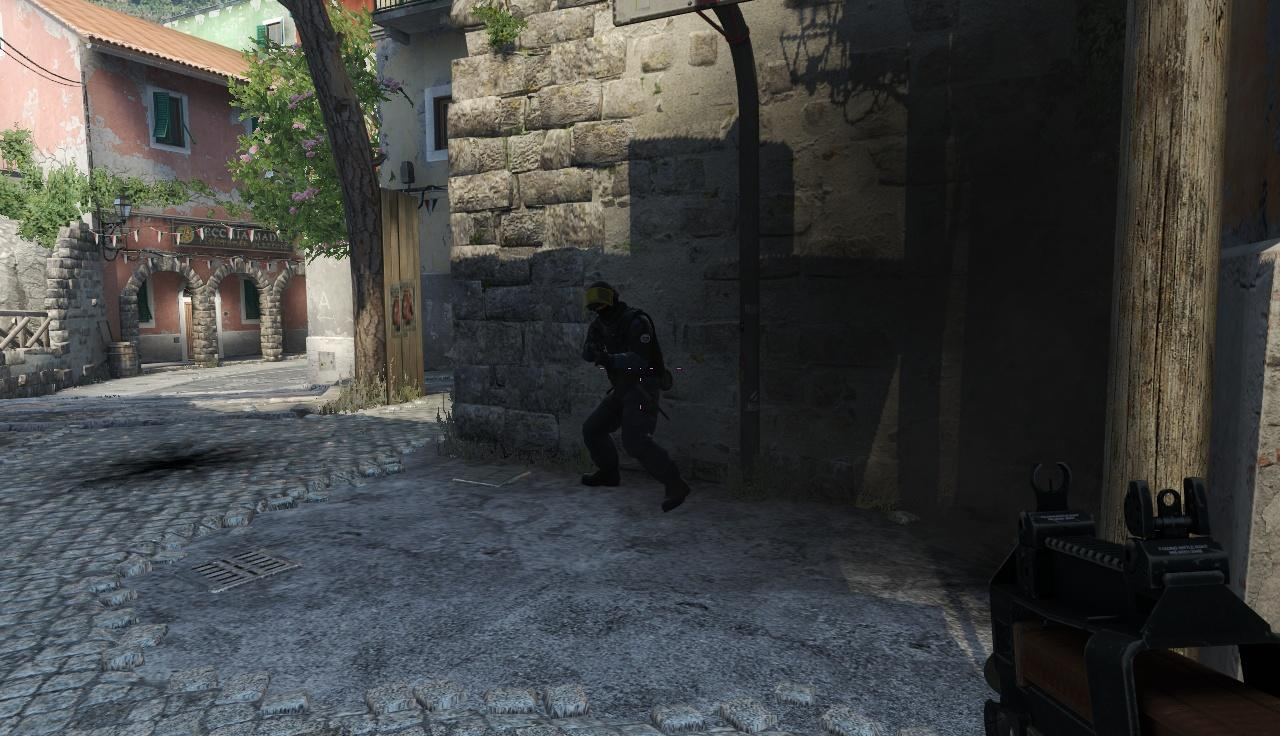ct: (579, 284, 664, 495)
cthead: (585, 283, 619, 319)
rifle: (991, 465, 1280, 736)
